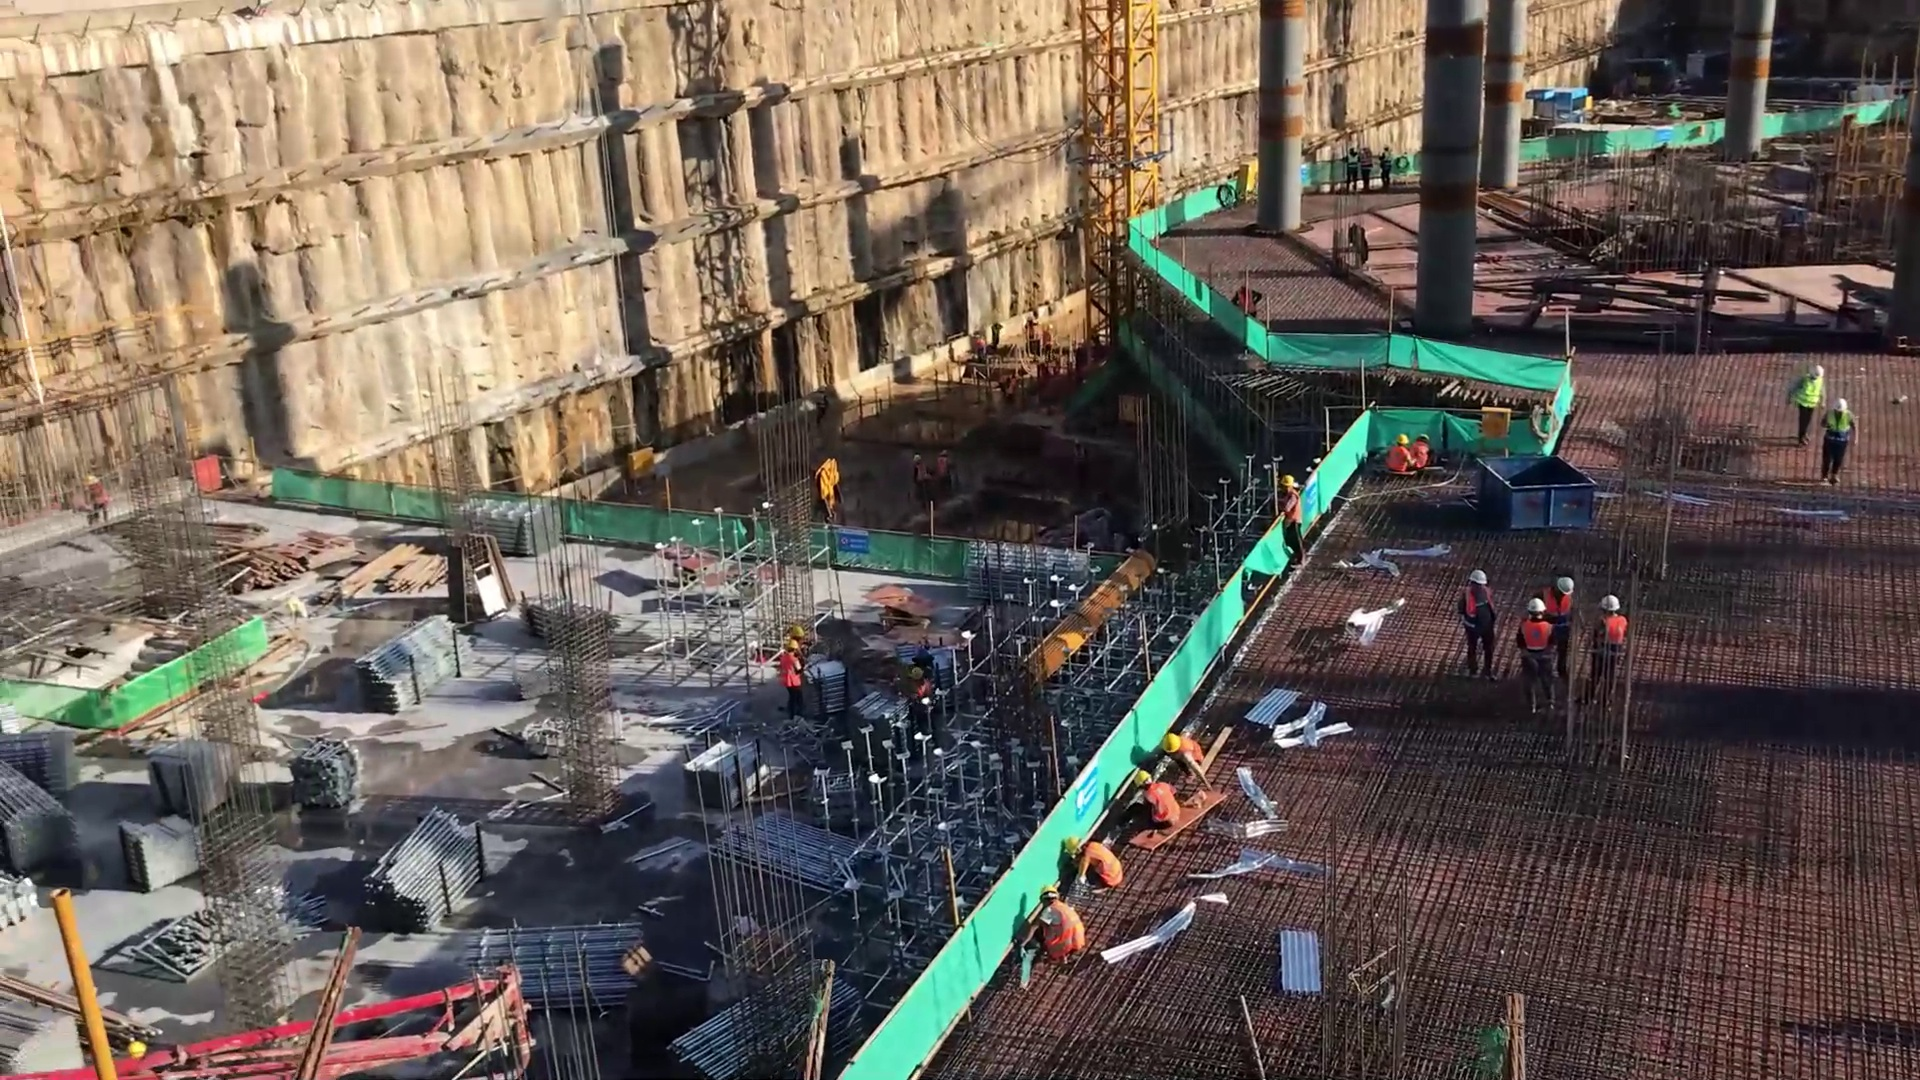helmet: (1596, 593, 1623, 616), (1551, 573, 1575, 599), (1130, 766, 1153, 792), (1827, 394, 1853, 415), (1159, 732, 1182, 756), (1037, 883, 1061, 904), (1061, 833, 1082, 857), (1525, 597, 1548, 615), (789, 623, 807, 642), (1806, 362, 1825, 383), (1467, 568, 1487, 586), (1276, 473, 1297, 488), (784, 638, 800, 654), (1394, 431, 1408, 447), (1416, 429, 1430, 443)
person: (1514, 595, 1566, 719), (1585, 591, 1634, 713), (1027, 882, 1093, 970), (1457, 565, 1502, 687), (1538, 573, 1580, 689), (1057, 833, 1129, 899), (1121, 765, 1185, 838), (1817, 395, 1864, 487), (1153, 727, 1214, 793), (1783, 360, 1828, 451), (1272, 472, 1312, 572), (778, 638, 808, 719), (1386, 430, 1416, 477), (784, 623, 811, 664), (1411, 427, 1434, 474)
vest: (1038, 902, 1089, 964), (1083, 837, 1126, 891), (1459, 588, 1500, 640), (1593, 616, 1628, 669), (1519, 619, 1552, 674), (1143, 778, 1180, 825), (1545, 597, 1573, 645), (1820, 413, 1854, 447), (1179, 730, 1207, 769), (1279, 488, 1303, 532), (1793, 377, 1823, 410), (780, 655, 805, 688), (1387, 445, 1411, 476), (1409, 441, 1431, 472)
